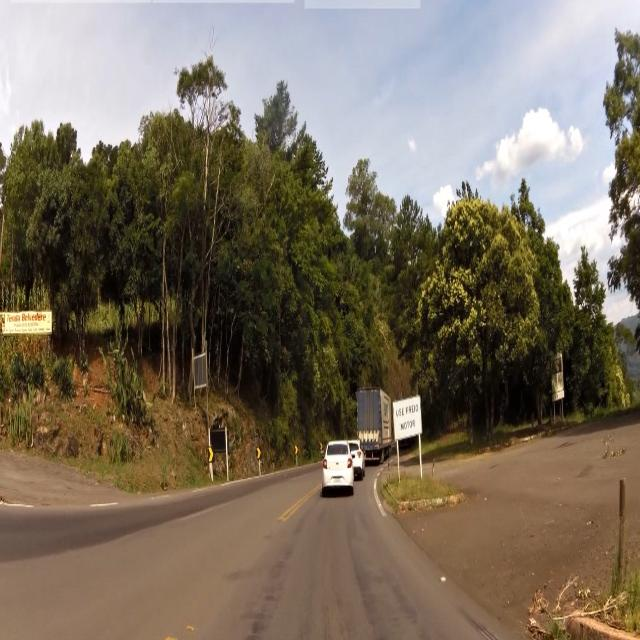E-5: (394, 394, 423, 436)
